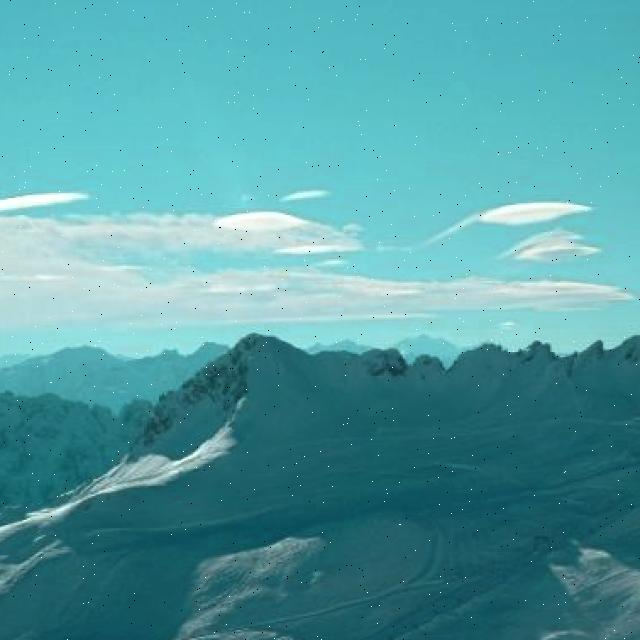Ac: (194, 155, 639, 321)
